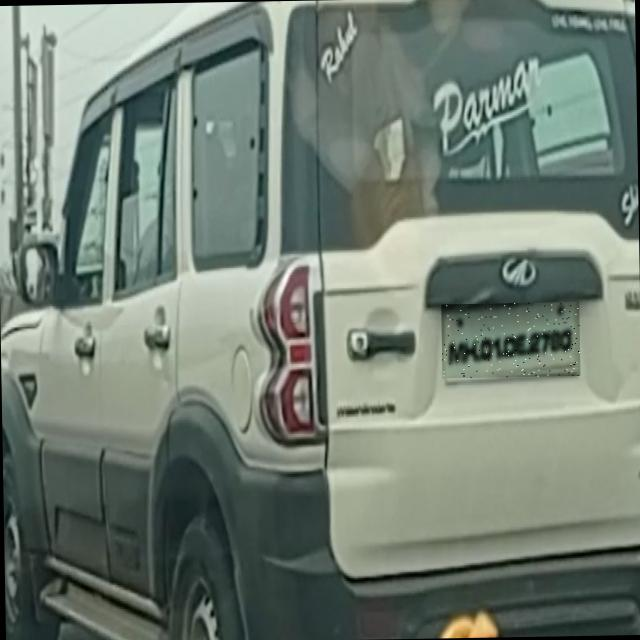Plate: (442, 303, 581, 379)
